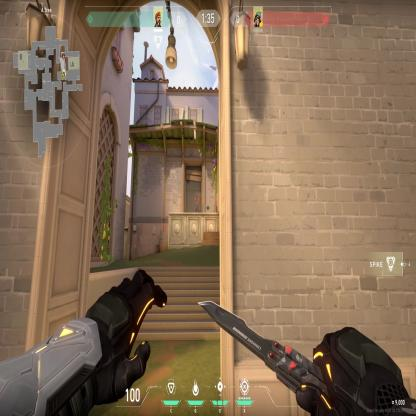enemy: (194, 192, 199, 214)
